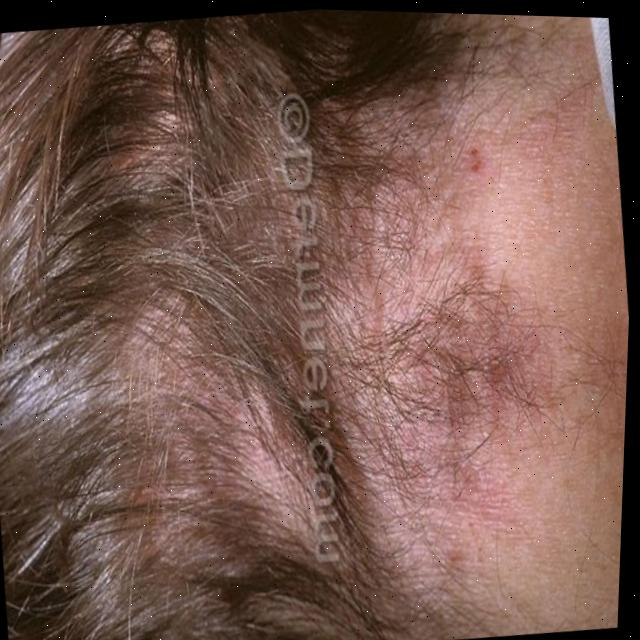Eczema: (402, 97, 588, 525)
